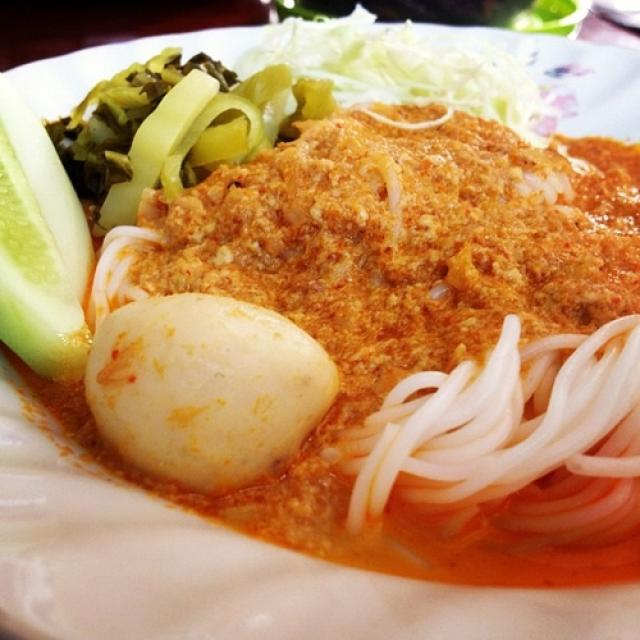面条主食: (1, 8, 630, 631)
